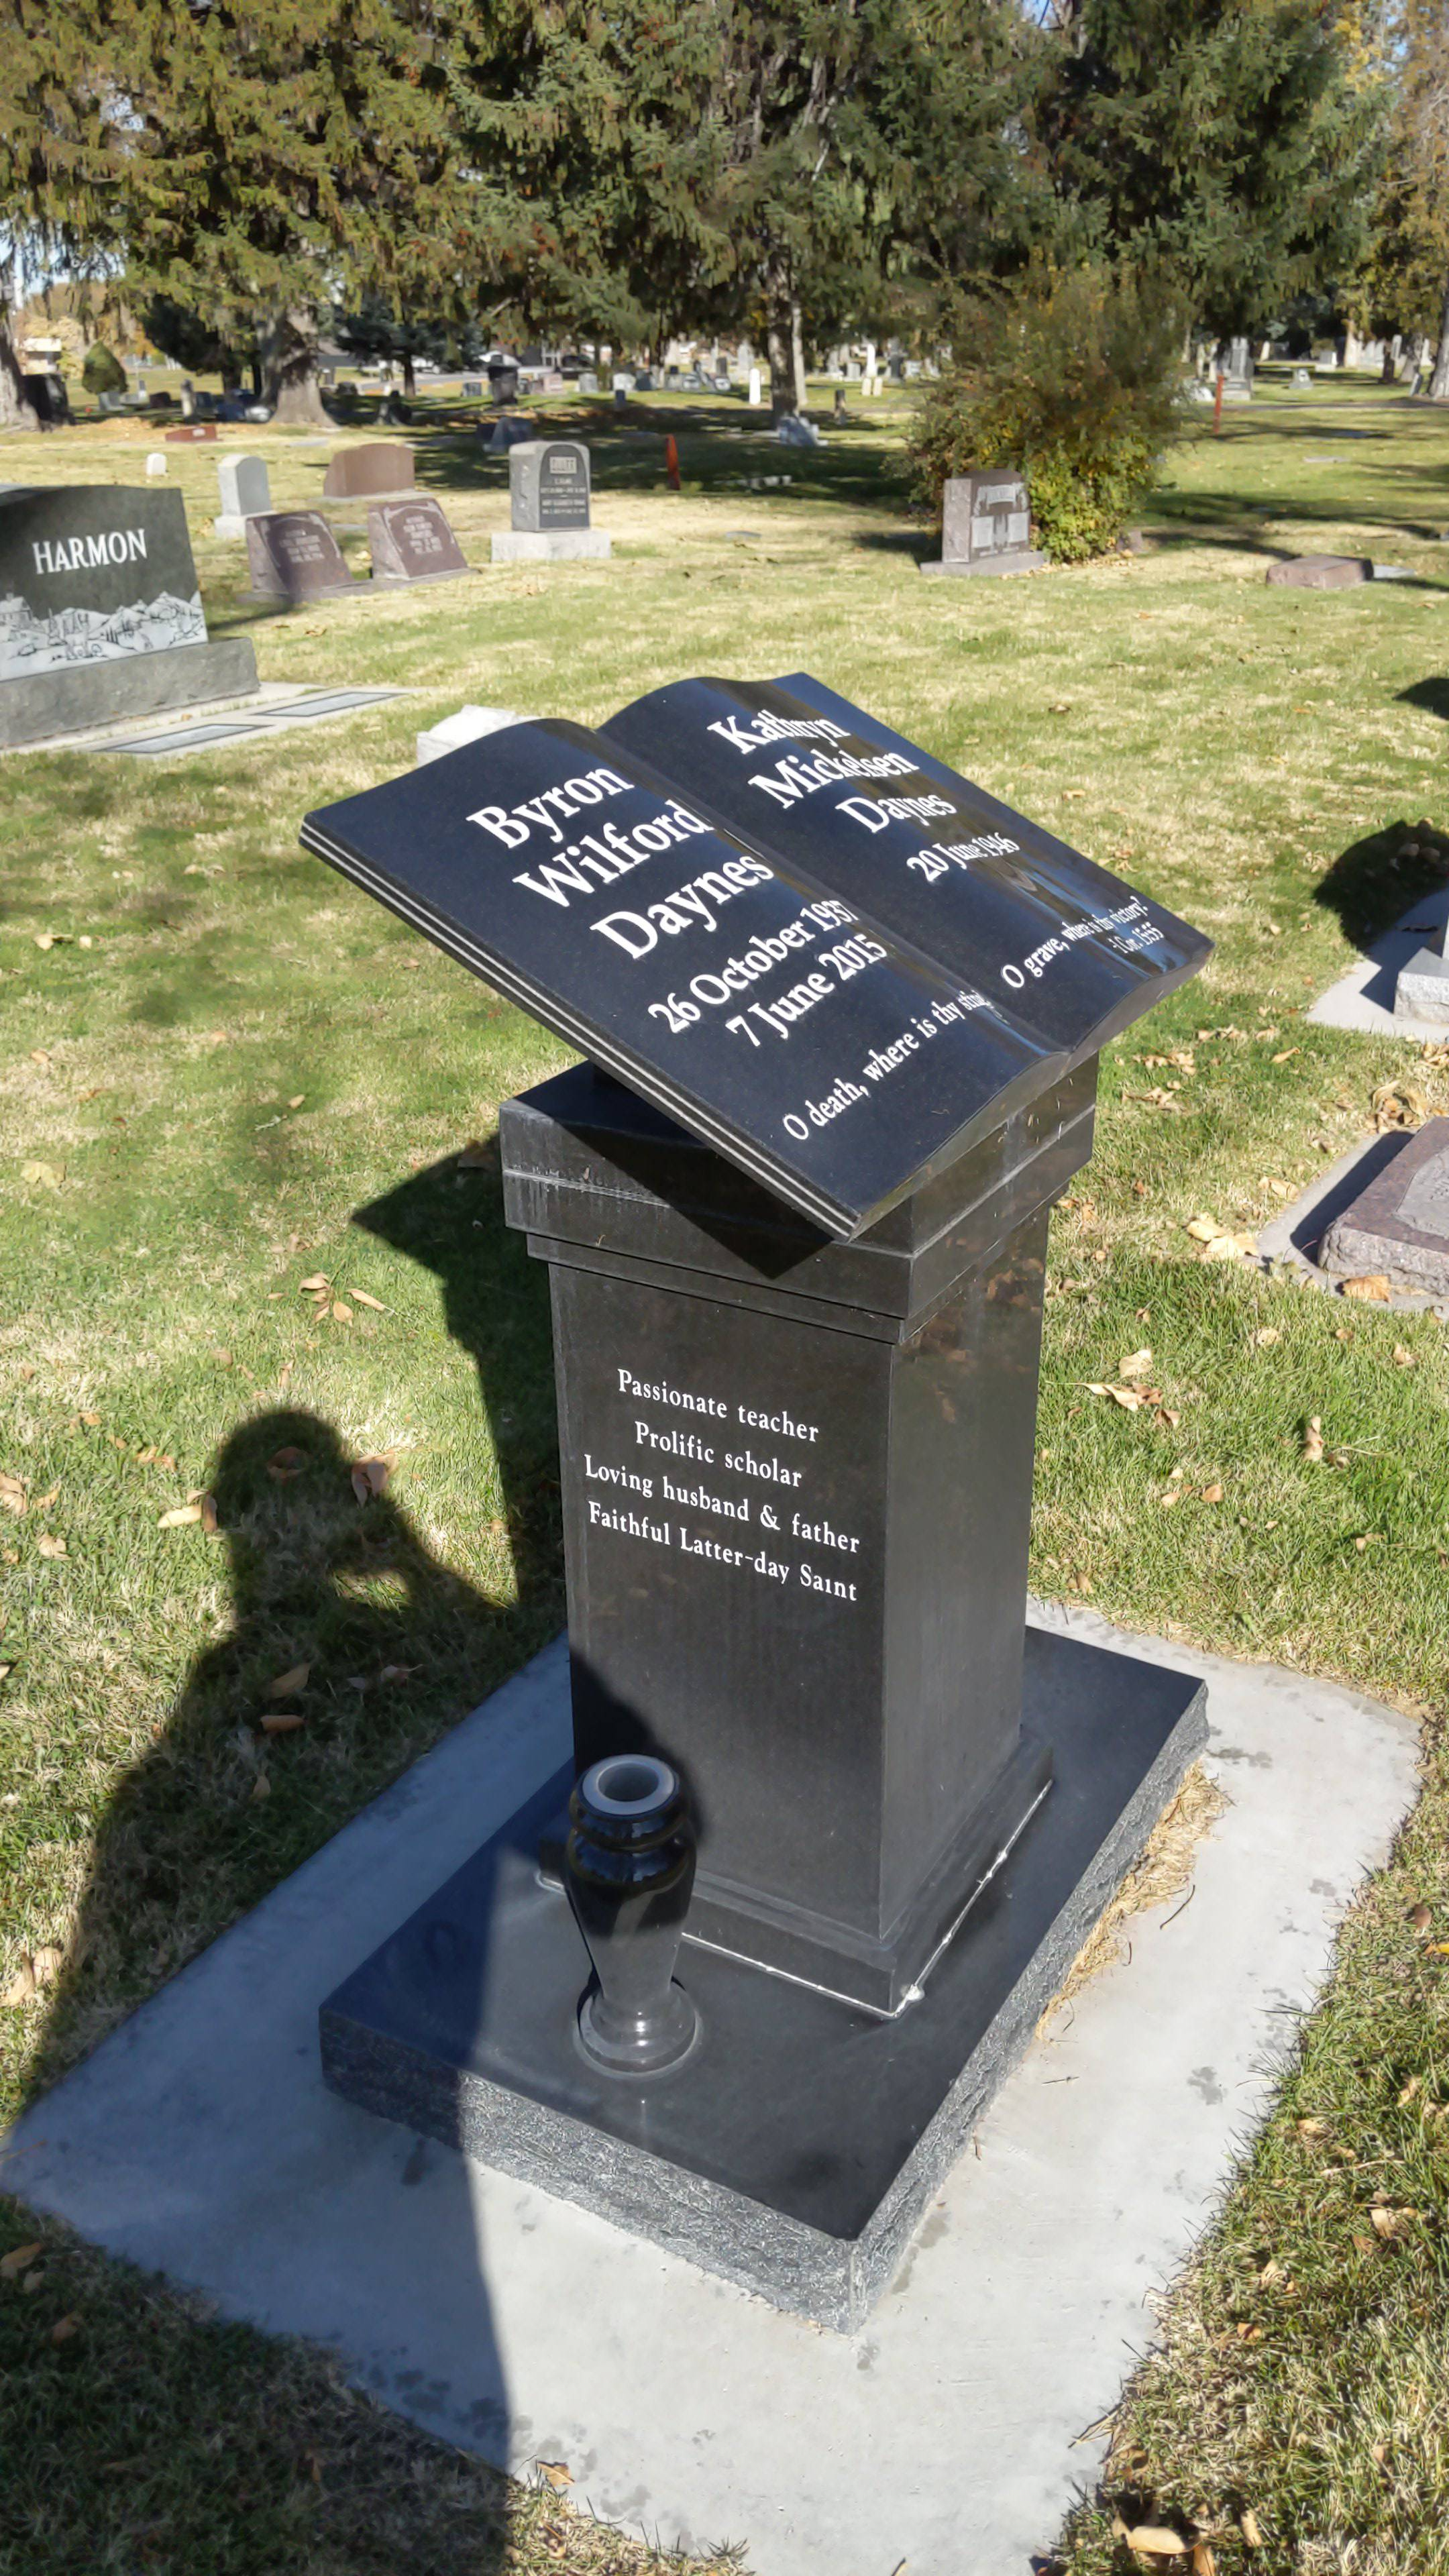statue: (315, 655, 1210, 2332)
